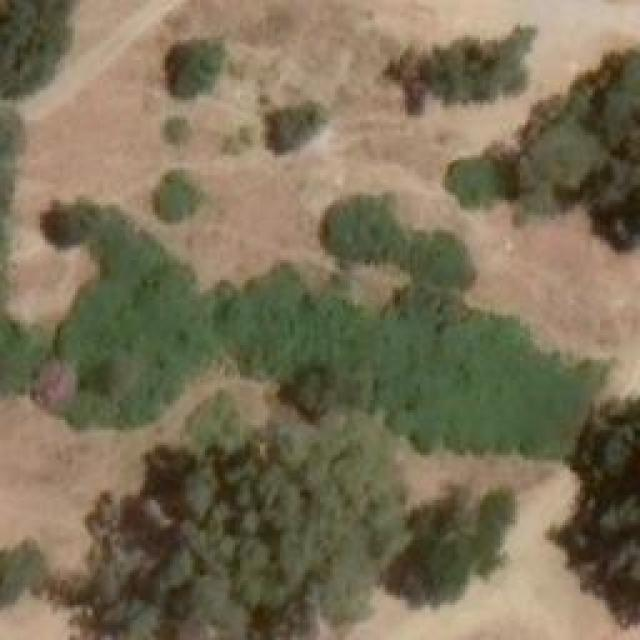Tree: (85, 410, 390, 638), (378, 289, 616, 460), (58, 234, 213, 423), (215, 243, 378, 405), (512, 48, 640, 251), (570, 398, 640, 618), (395, 480, 513, 610), (395, 25, 530, 110), (0, 0, 55, 95), (0, 300, 52, 395), (327, 193, 395, 258), (403, 233, 473, 293), (162, 40, 220, 108), (260, 105, 323, 158), (0, 538, 50, 603), (35, 198, 100, 248), (450, 155, 503, 208), (150, 168, 203, 218), (158, 115, 193, 150)
